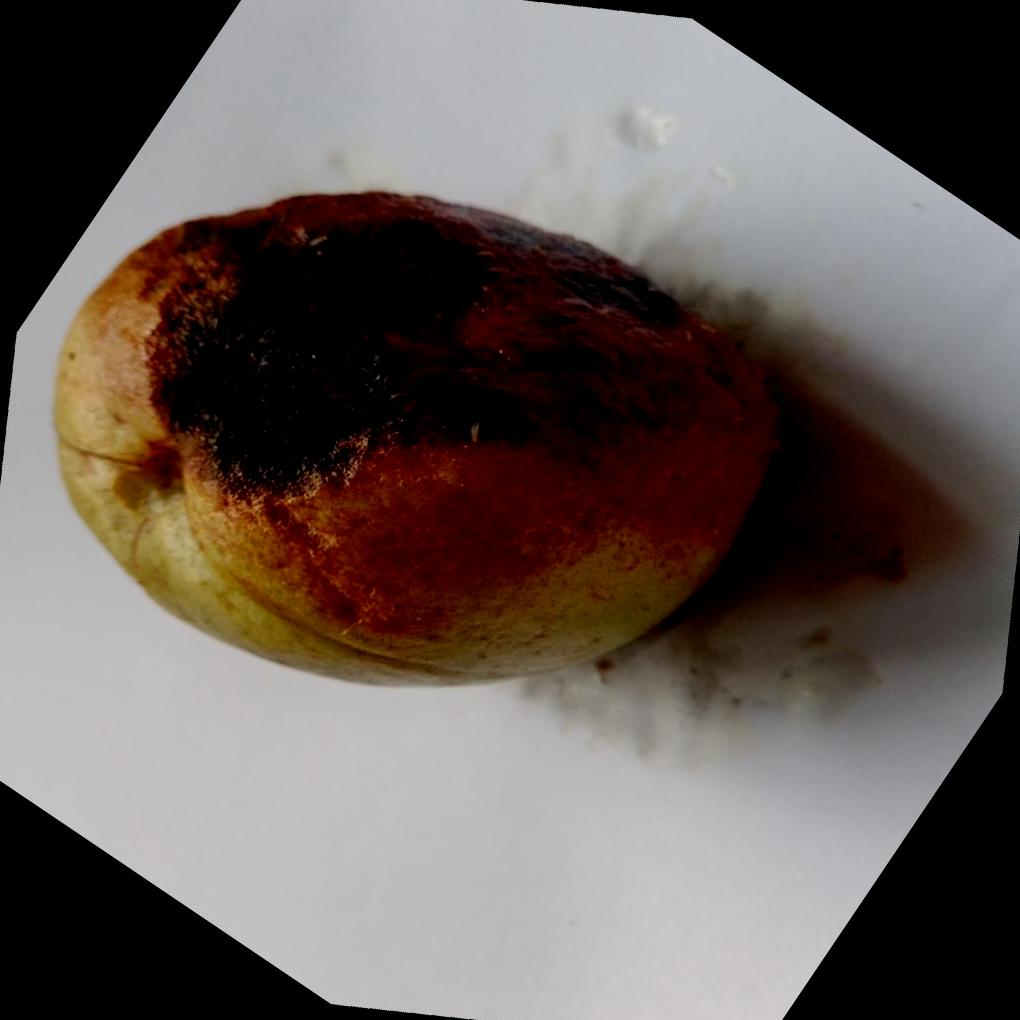FreshOrange: (50, 186, 784, 685)
